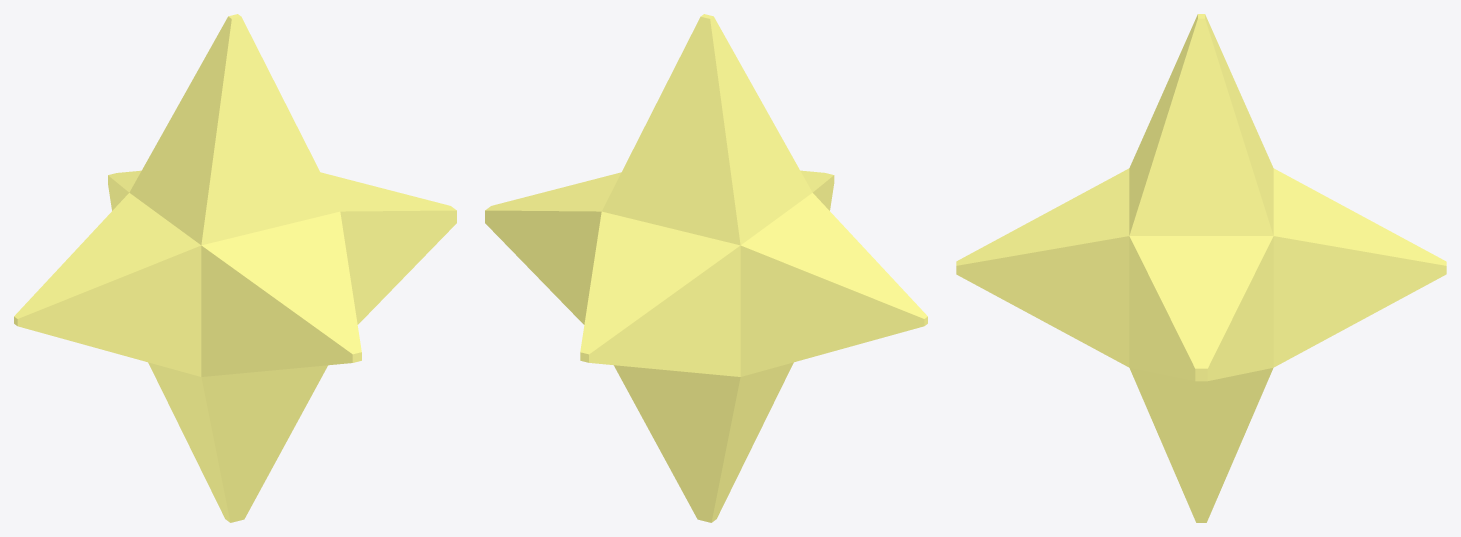
The model's file is Prop_Star.glb.
The picture shows the model from 3 angles, left to right: view 1: azimuth 30°, elevation 25°; view 2: azimuth 150°, elevation 25°; view 3: azimuth 270°, elevation 25°; orthographic projection.
Parts seen in each view (by area): view 1: Prop_Star; view 2: Prop_Star; view 3: Prop_Star.
Part boxes in pixels (x1=…): Prop_Star: x1=14, y1=14, x2=456, y2=522; Prop_Star: x1=485, y1=14, x2=927, y2=522; Prop_Star: x1=956, y1=14, x2=1446, y2=522.
Size of the model in its own units: 1.51 by 1.65 by 1.46.
1 material, 1 textured.
